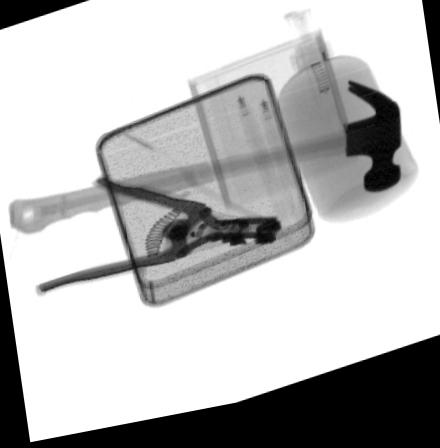Hammer: (7, 93, 402, 238)
Pliers: (35, 180, 284, 298)
